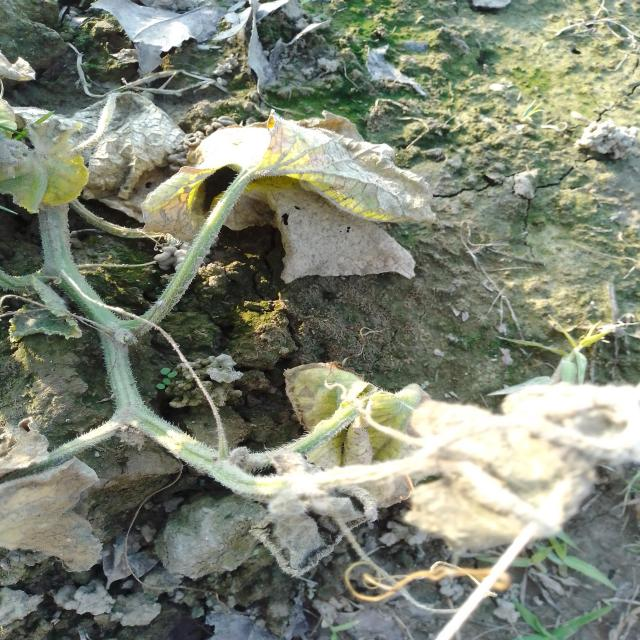cucumber_bacterial: (163, 116, 429, 311), (406, 389, 640, 571), (0, 406, 108, 640), (0, 88, 113, 265), (272, 358, 430, 474), (84, 72, 194, 197)
